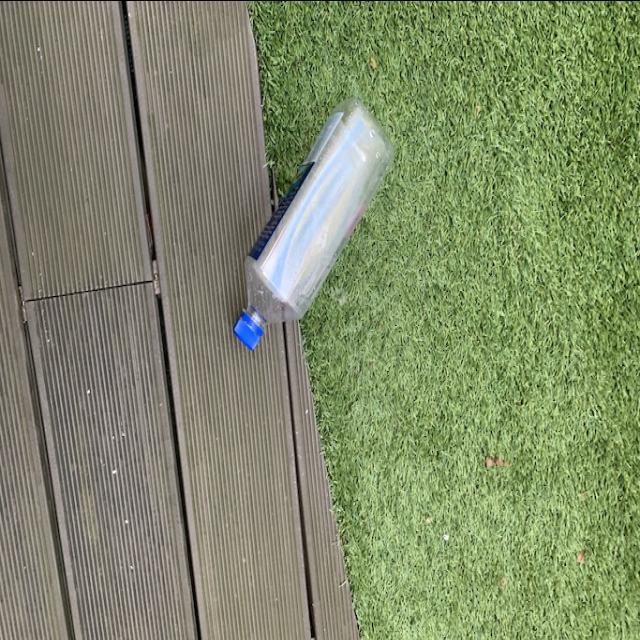litter: (232, 98, 396, 350)
